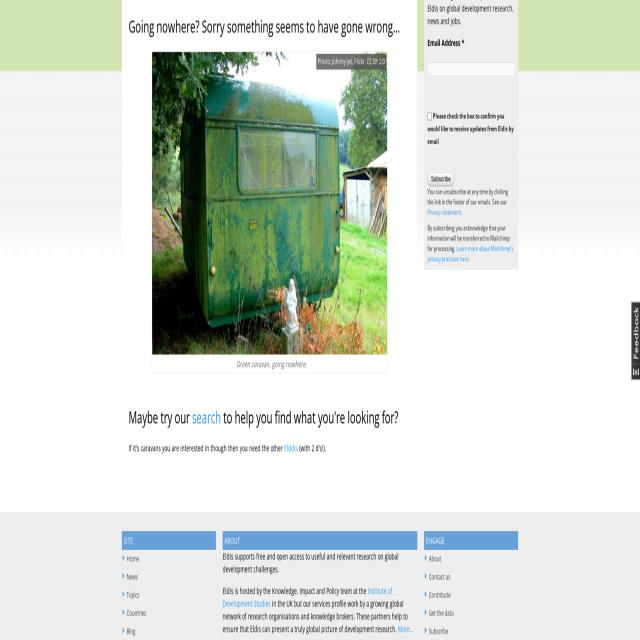button: (152, 52, 388, 355), (122, 550, 208, 568), (424, 550, 510, 568), (424, 567, 510, 585), (122, 568, 208, 586), (122, 586, 208, 604), (424, 586, 510, 604), (122, 604, 208, 622), (424, 604, 510, 622), (122, 622, 208, 640), (424, 625, 509, 640), (428, 173, 454, 186)
field: (428, 63, 515, 76), (428, 112, 432, 120)
